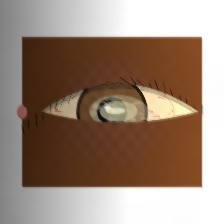corneal_ulcer: (88, 87, 149, 136)
